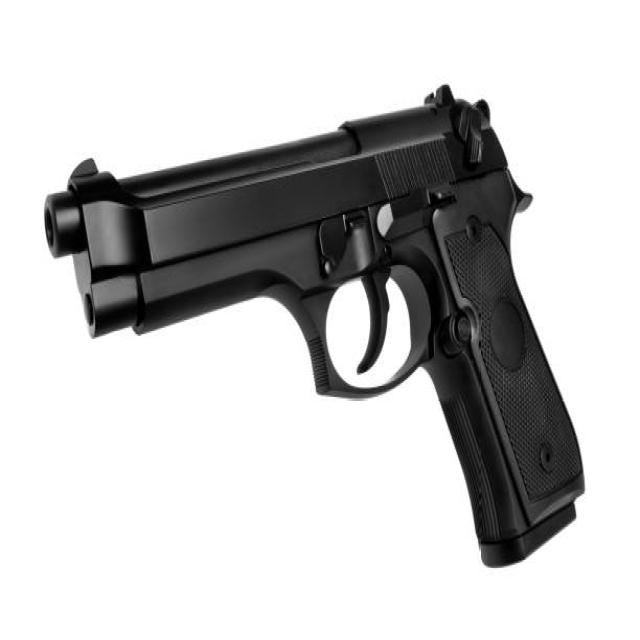pistol: (38, 84, 591, 577)
